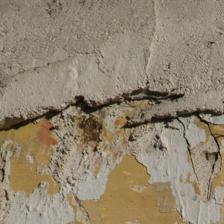Crack: (37, 62, 149, 162), (16, 21, 116, 109), (8, 0, 89, 54), (168, 87, 194, 111)
